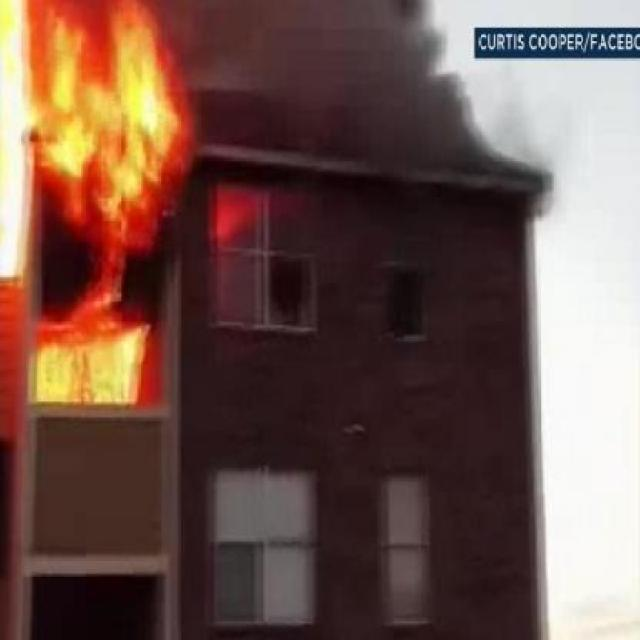Fire: (0, 0, 278, 432)
Smoke: (203, 8, 562, 179)
